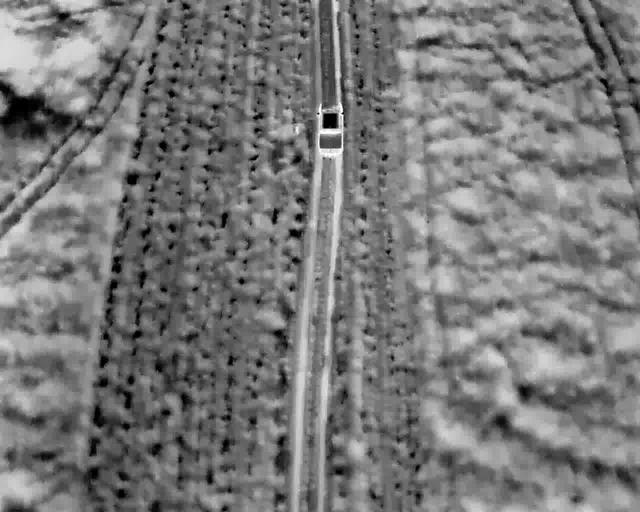car: (315, 100, 344, 155)
